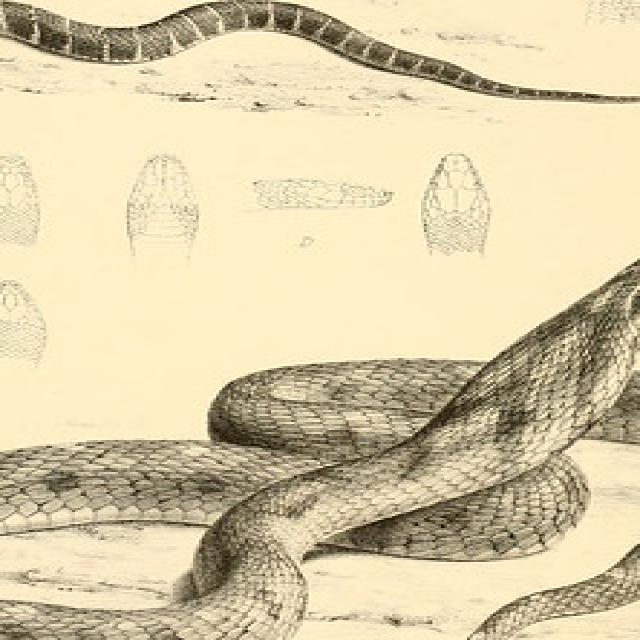Snake: (0, 230, 640, 640), (0, 0, 640, 104)
